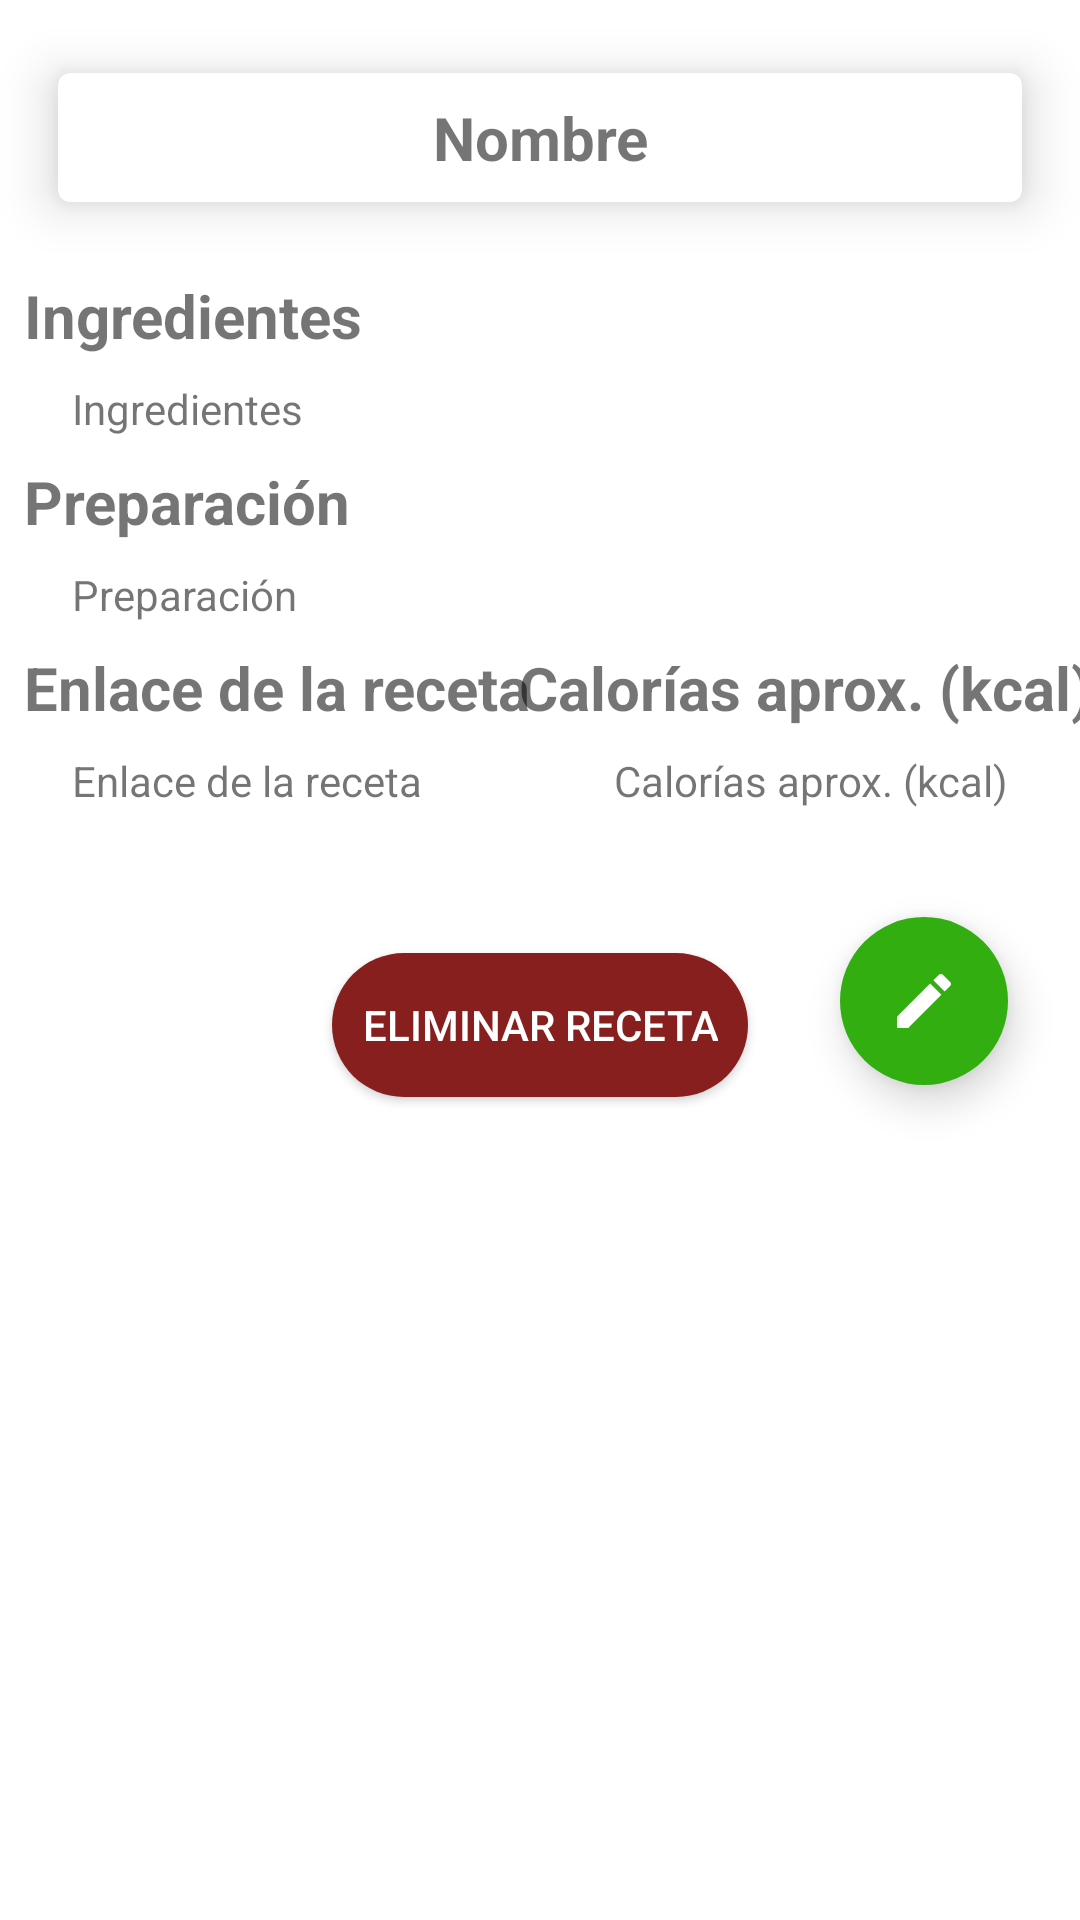

Named icons in this screenshot (1080 x 1920) and their bounding boxes, (x1=x1, y1=y1, x2=x2, y2=y2):
Editar receta: (x1=840, y1=917, x2=1008, y2=1085)
